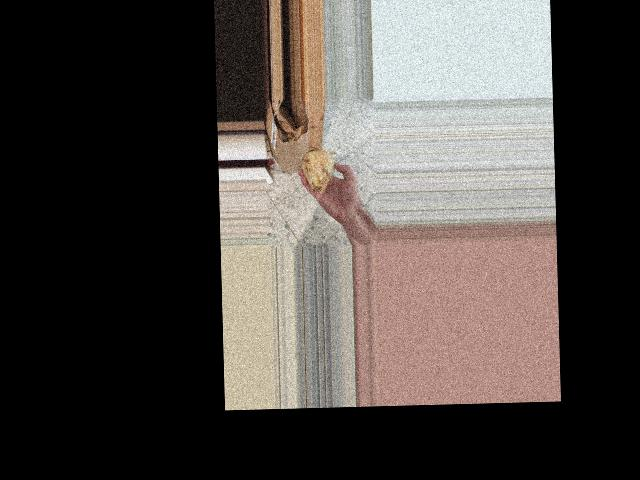onion: (300, 145, 335, 195)
